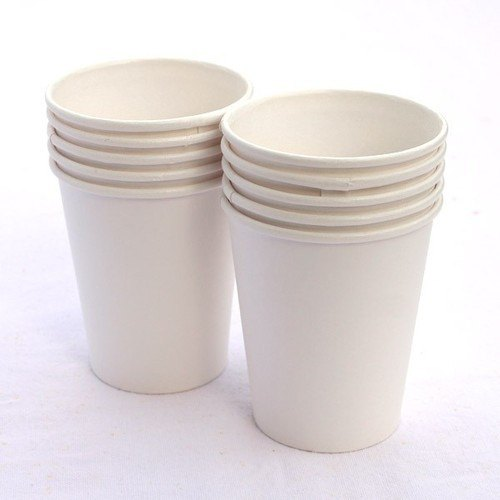cup: (220, 91, 449, 459), (43, 58, 254, 394)
